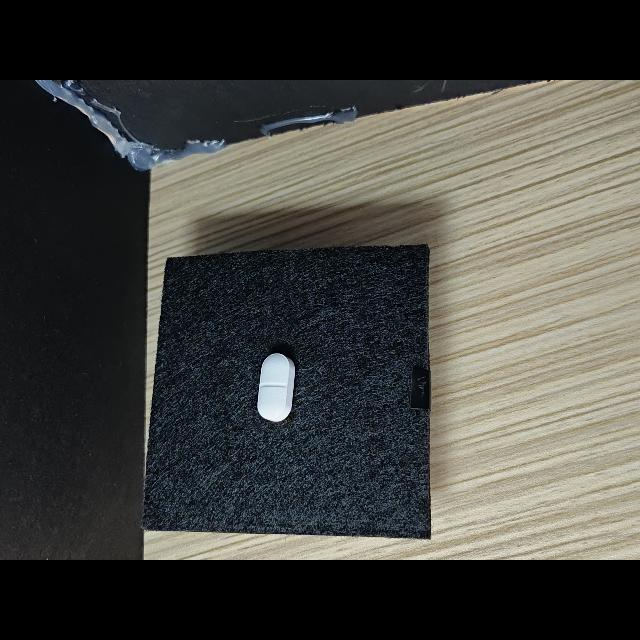Intact Pill: (257, 353, 295, 422)
